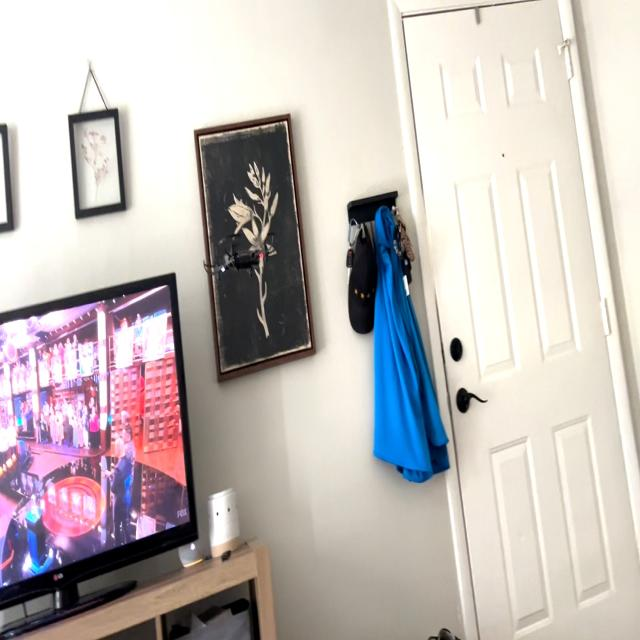drone: (192, 227, 292, 285)
